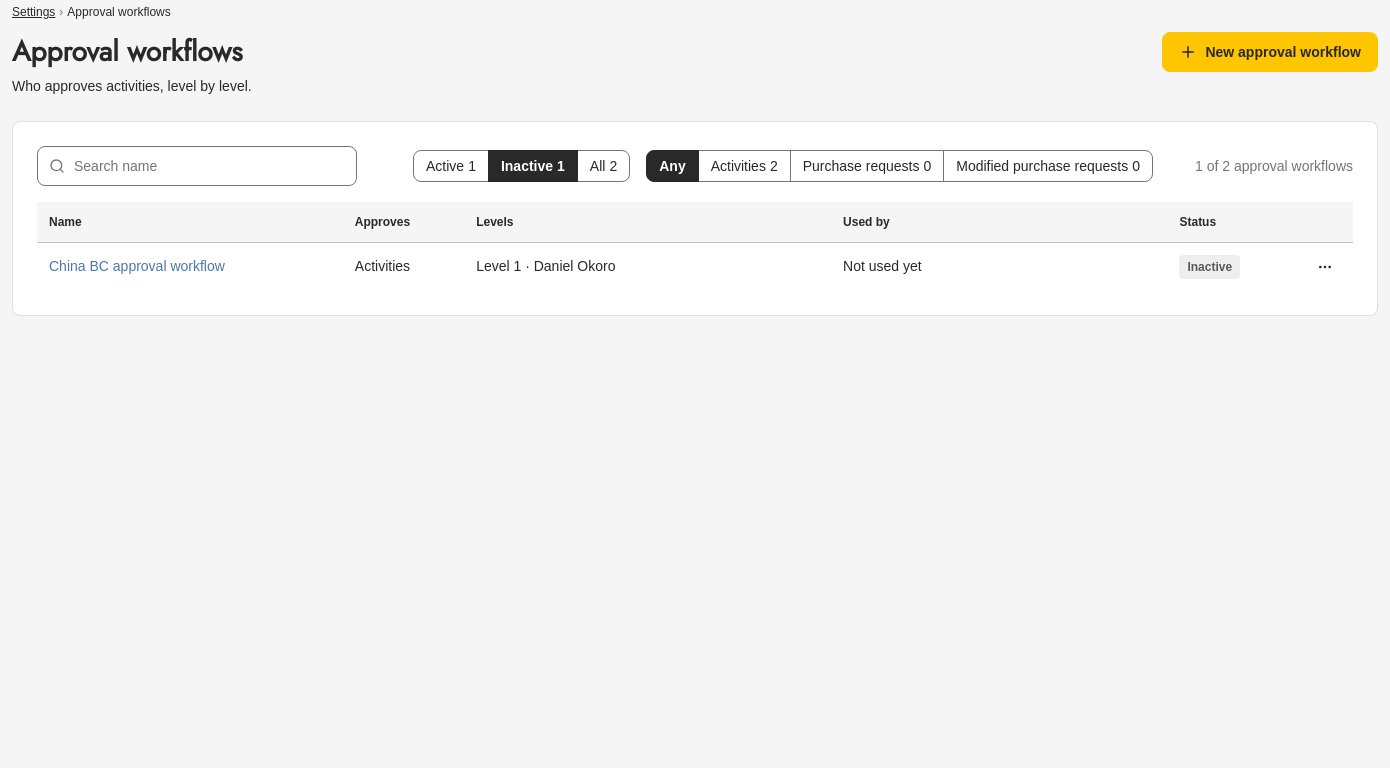
ApprovalWorkflowsPage set inactive, reactivate and delete (feature 008, US4) › reactivates an inactive workflow at once (FR-007)
Click the button "All 2". click: (604, 166)
box: top-left (577, 150), bottom-right (630, 182)
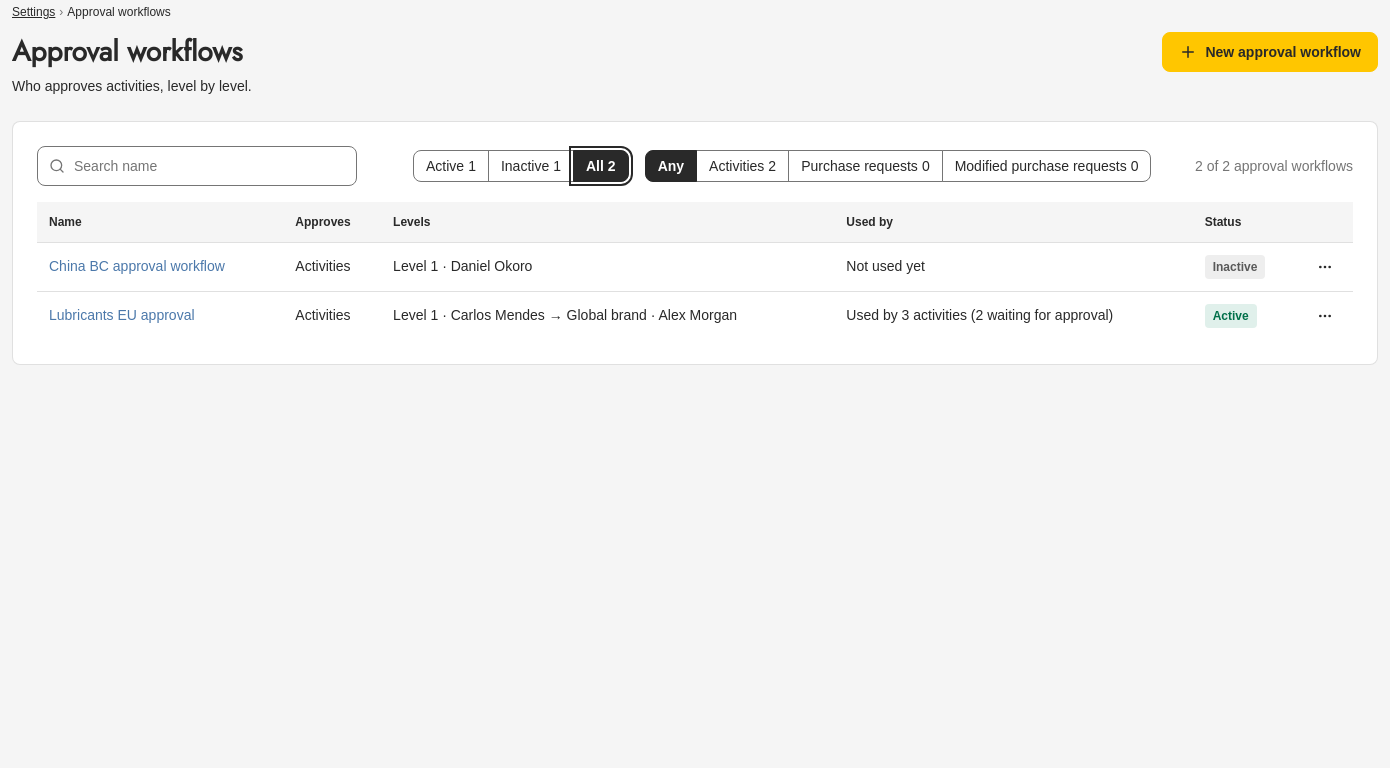
Expected: the row "China BC" is shown, top-left (37, 242), bottom-right (1353, 291)
Click the button named "Actions for China BC approval workflow". click: (1325, 266)
box: top-left (1309, 250), bottom-right (1341, 282)
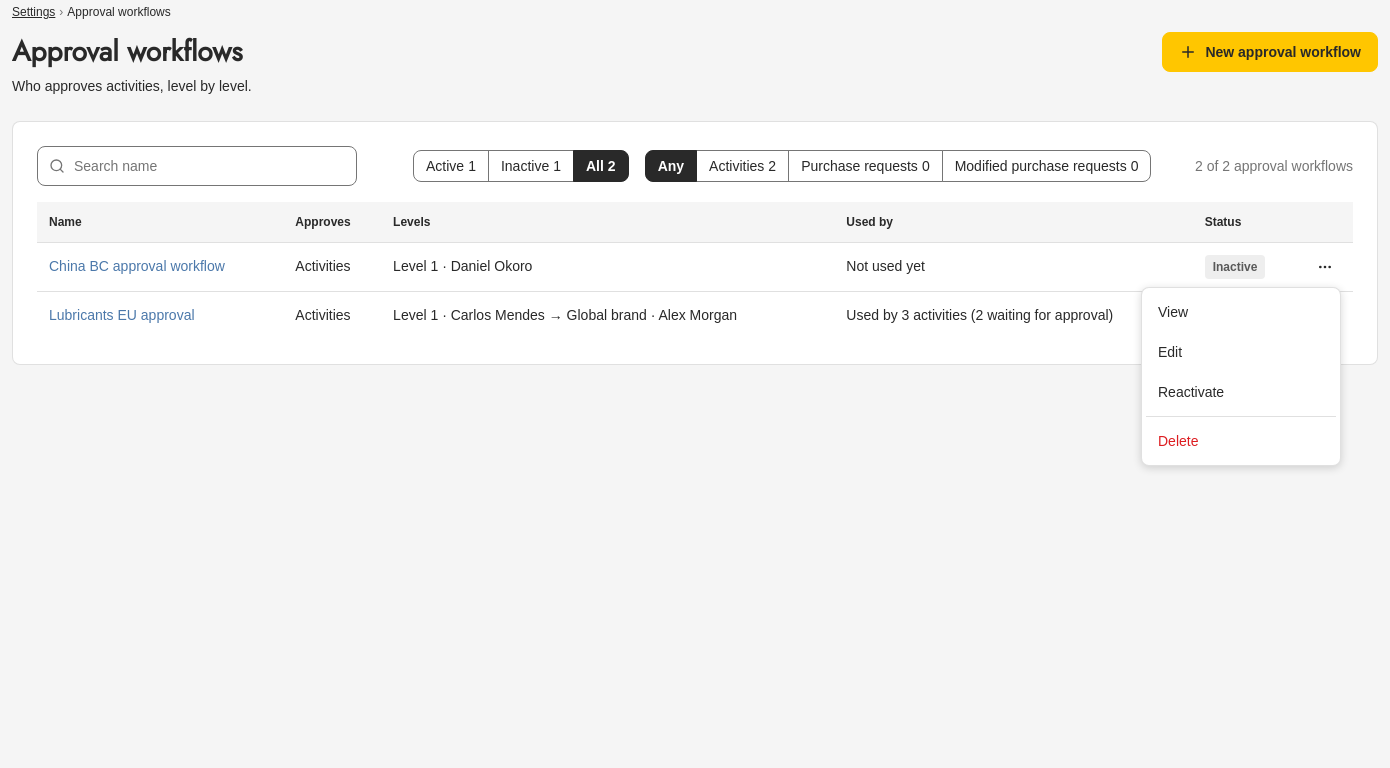
Click the menu item "Reactivate". click: (1191, 392)
box: top-left (1158, 384), bottom-right (1224, 400)
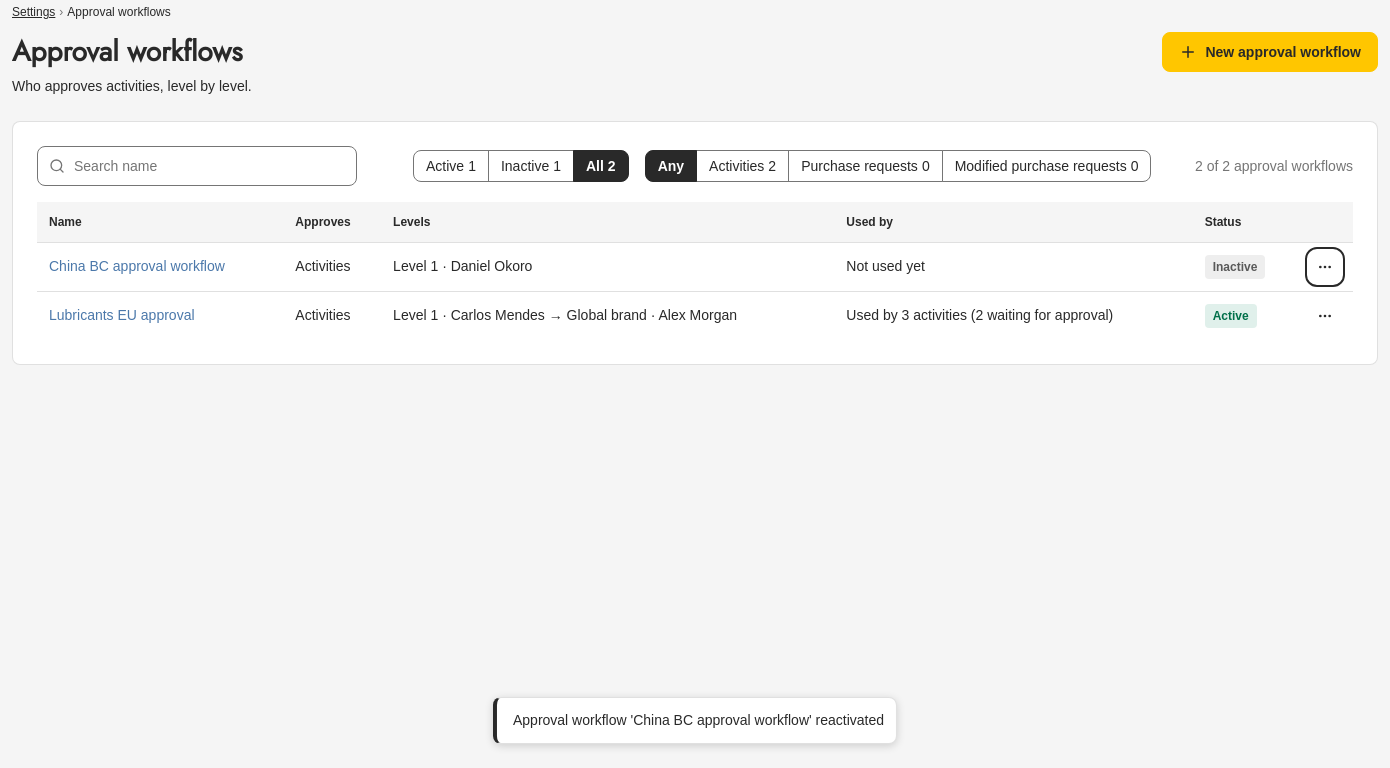
Result: the text "Approval workflow 'China BC approval workflow' reactivated" is shown at top-left (513, 710), bottom-right (884, 731)
